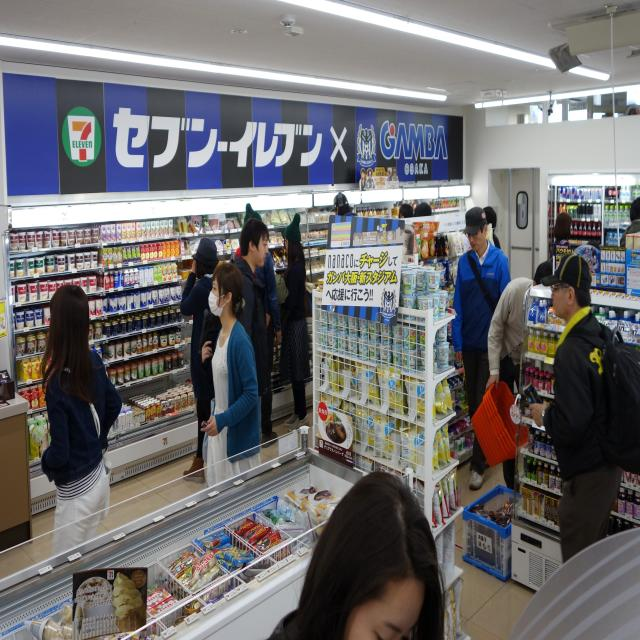body: (262, 469, 446, 640), (540, 252, 640, 566), (38, 284, 124, 556), (482, 259, 555, 507), (450, 207, 512, 492), (197, 261, 262, 488), (227, 201, 282, 450), (464, 205, 512, 470), (179, 237, 223, 486), (264, 214, 312, 436), (227, 219, 270, 443), (549, 212, 573, 264), (619, 196, 640, 247), (329, 192, 358, 216), (395, 203, 437, 219)
